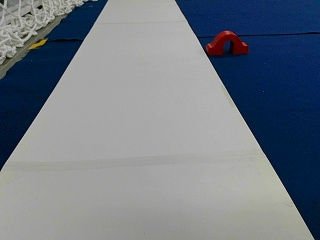bridge: (207, 31, 248, 54)
